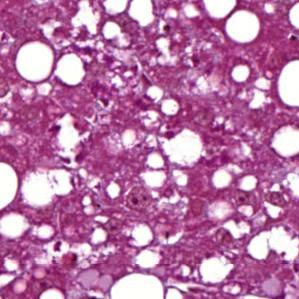steatosis: (11, 41, 57, 83), (225, 11, 264, 45)
